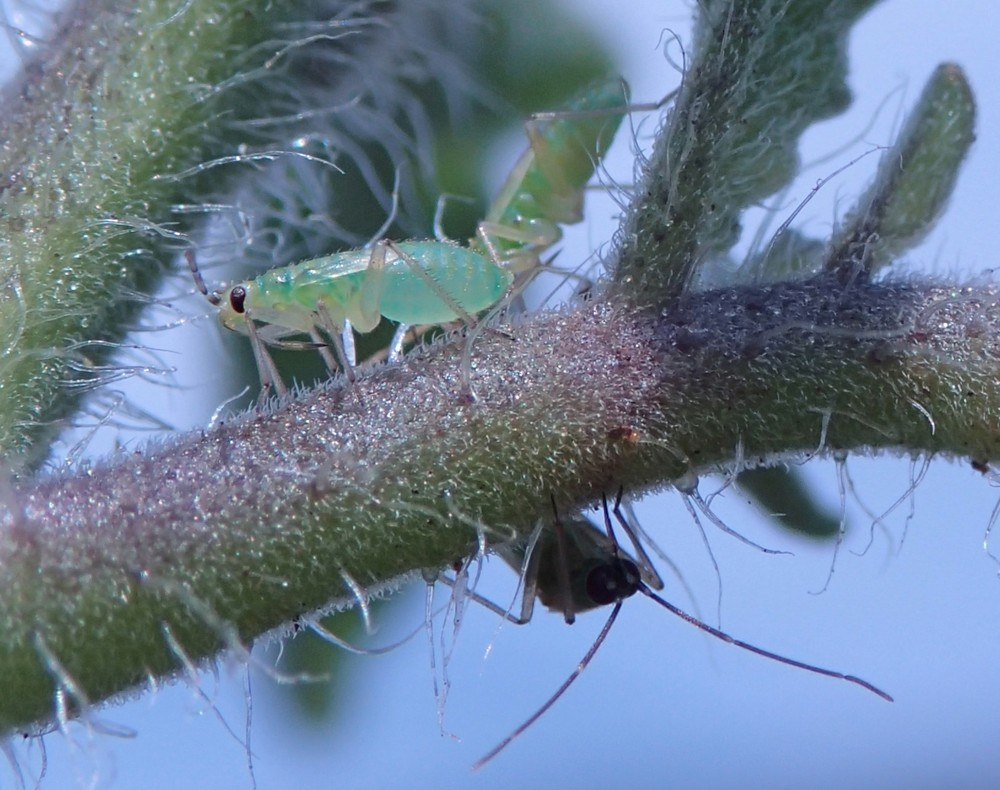Pulgon: (446, 488, 901, 755), (187, 209, 535, 369), (449, 65, 651, 273)
